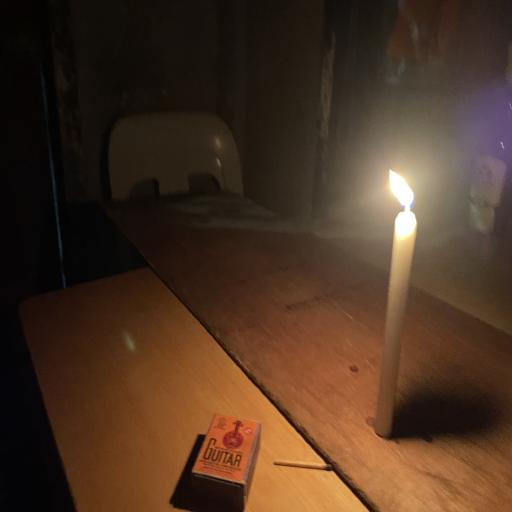fire: (340, 126, 434, 255)
